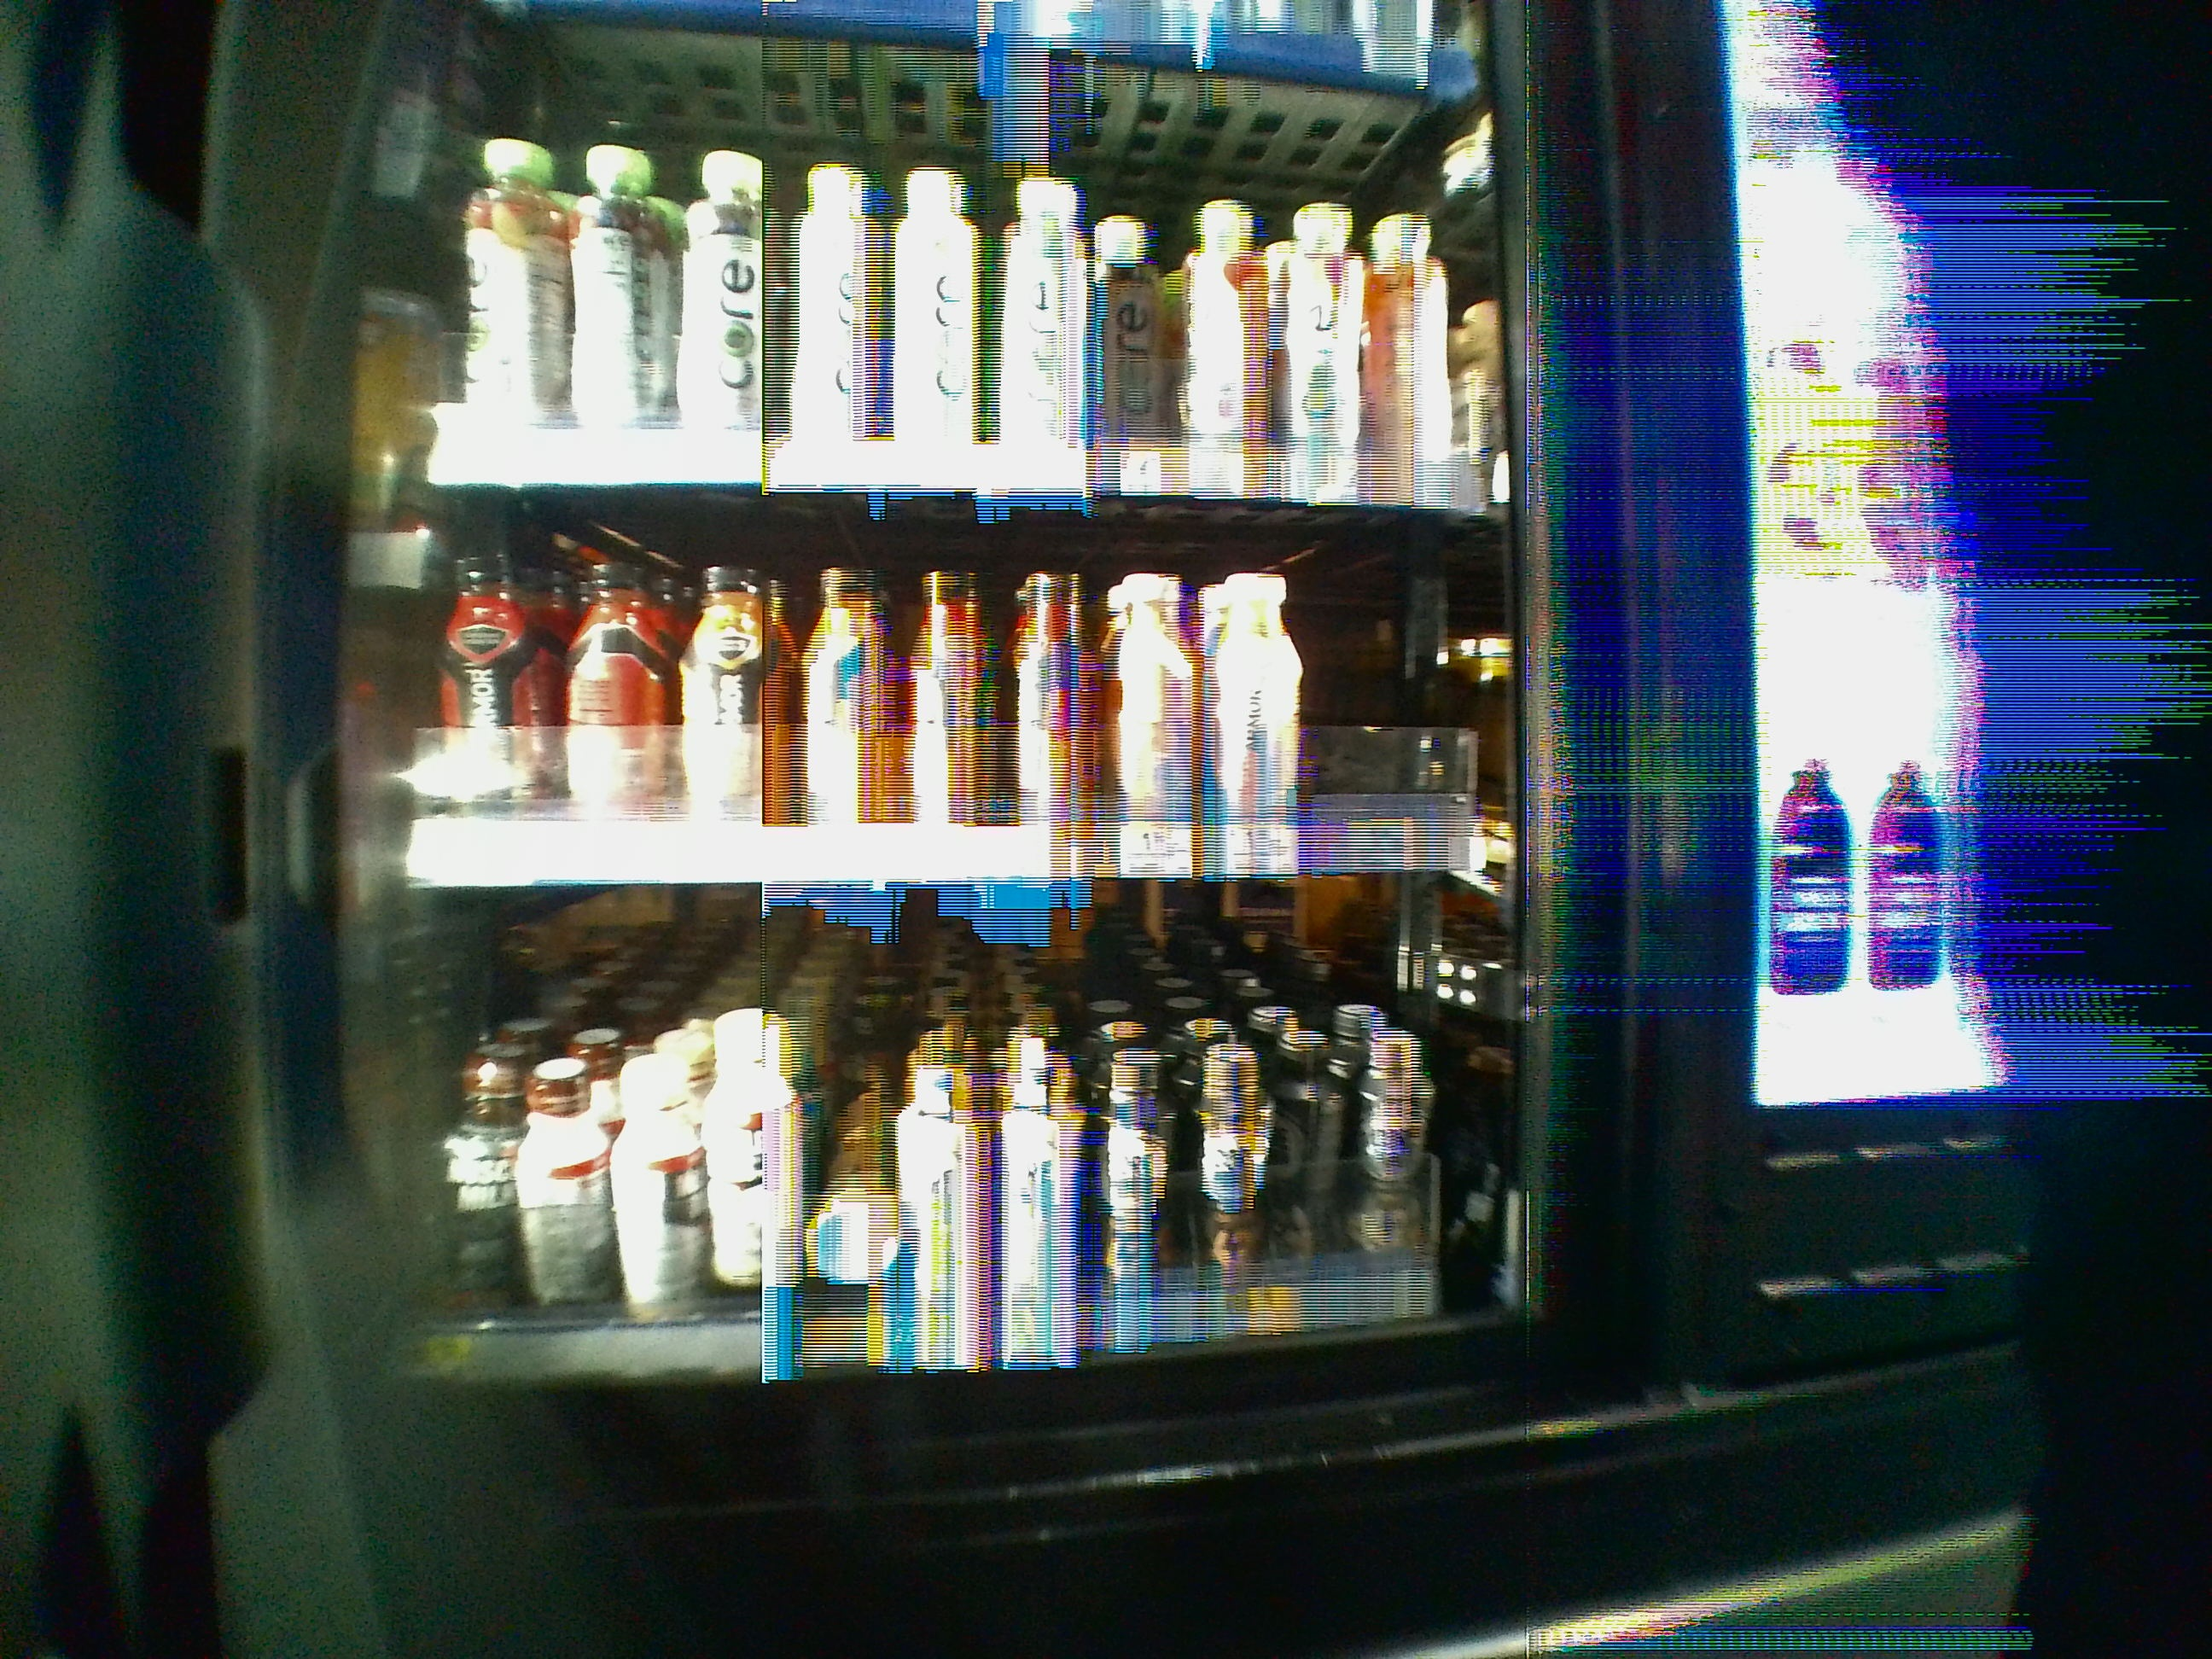shelf: (307, 880, 1547, 1382), (315, 483, 1538, 885)
